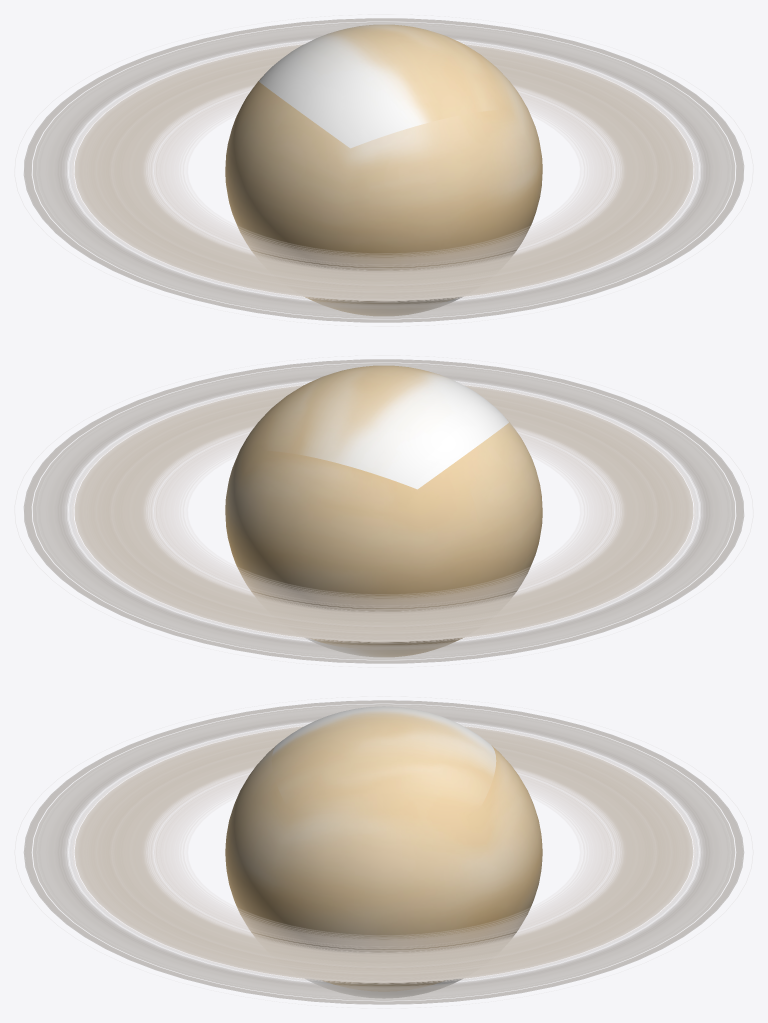
Rendered from saturn.gltf.
3 renders of one model, top to bottom at view 1: azimuth 30°, elevation 25°; view 2: azimuth 150°, elevation 25°; view 3: azimuth 270°, elevation 25°, orthographic.
Parts seen in each view (by area): view 1: RingsTop, Saturn.001; view 2: RingsTop, Saturn.001; view 3: RingsTop, Saturn.001.
Part boxes in pixels (left/top/right/bottom): RingsTop: left=23, top=18, right=744, bottom=322; Saturn.001: left=225, top=24, right=542, bottom=315; RingsTop: left=23, top=359, right=744, bottom=663; Saturn.001: left=225, top=365, right=542, bottom=656; RingsTop: left=23, top=700, right=744, bottom=1004; Saturn.001: left=225, top=706, right=542, bottom=998.
Size of the model in its own units: 2331 by 902 by 2331.
